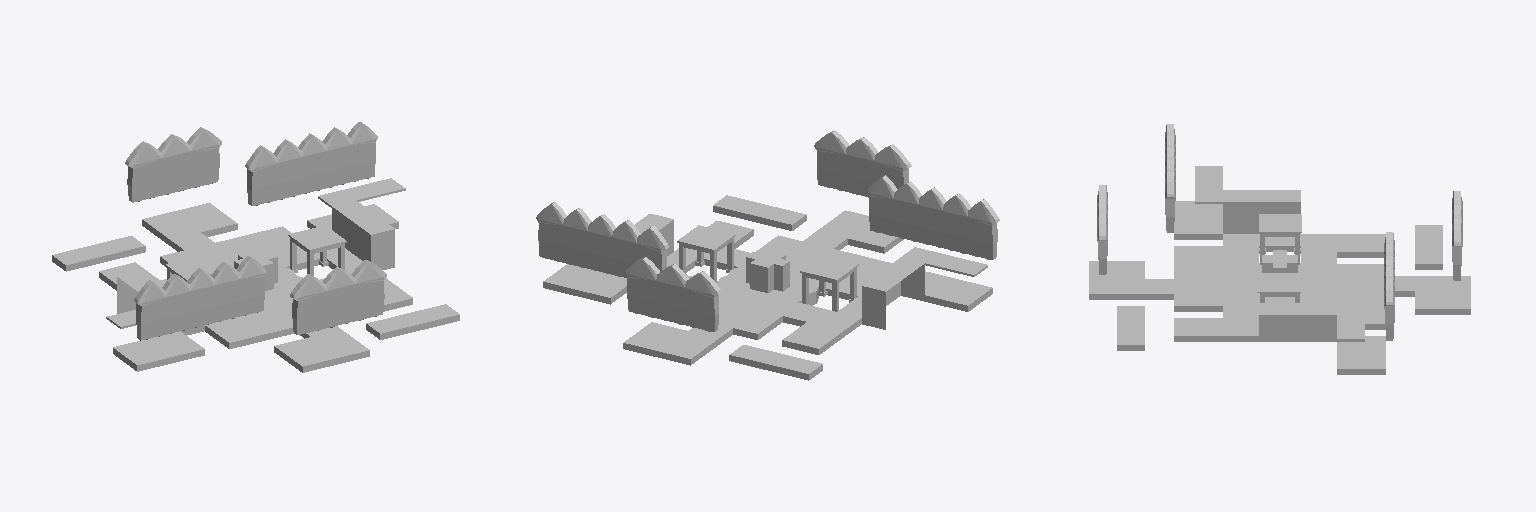
Rendered from MiddleTower.obj.
3 renders of one model, left to right at view 1: azimuth 30°, elevation 25°; view 2: azimuth 150°, elevation 25°; view 3: azimuth 270°, elevation 25°, orthographic.
Parts seen in each view (by area): view 1: COL_17, COL_C6, COL_6, COL_C5, COL_4007, COL_8, COL_C5.001; view 2: COL_17, COL_C6, COL_6, COL_C5, COL_4007, COL_8, COL_C5.001, COL_C8, COL_17.001; view 3: COL_C6, COL_17, COL_4007, COL_C5, COL_6, COL_8, COL_C5.001.
Part boxes in pixels (left/top/right/bottom): COL_17: left=117, top=122, right=394, bottom=340; COL_C6: left=53, top=203, right=459, bottom=366; COL_6: left=52, top=220, right=459, bottom=372; COL_C5: left=117, top=200, right=394, bottom=291; COL_4007: left=106, top=178, right=405, bottom=335; COL_8: left=165, top=235, right=346, bottom=281; COL_C5.001: left=235, top=250, right=276, bottom=290; COL_17: left=536, top=130, right=999, bottom=331; COL_C6: left=543, top=195, right=991, bottom=373; COL_6: left=543, top=206, right=992, bottom=380; COL_C5: left=635, top=214, right=924, bottom=291; COL_4007: left=667, top=247, right=987, bottom=340; COL_8: left=677, top=235, right=858, bottom=311; COL_C5.001: left=747, top=250, right=788, bottom=292; COL_C8: left=718, top=267, right=818, bottom=305; COL_17.001: left=746, top=257, right=789, bottom=291; COL_C6: left=1089, top=201, right=1470, bottom=368; COL_17: left=1097, top=124, right=1462, bottom=341; COL_4007: left=1195, top=166, right=1364, bottom=341; COL_C5: left=1223, top=190, right=1336, bottom=314; COL_6: left=1089, top=234, right=1470, bottom=374; COL_8: left=1258, top=232, right=1301, bottom=302; COL_C5.001: left=1262, top=250, right=1297, bottom=272.
Size of the model in its own units: 58 by 16.94 by 54.